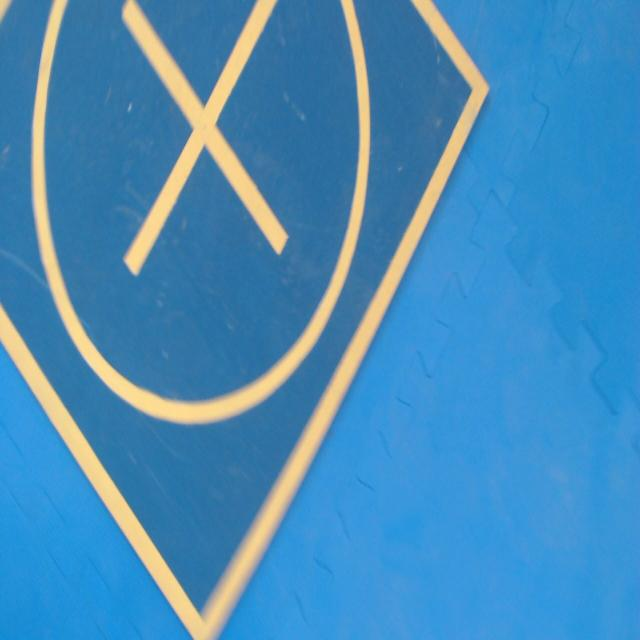base_pouso: (0, 0, 492, 638)
